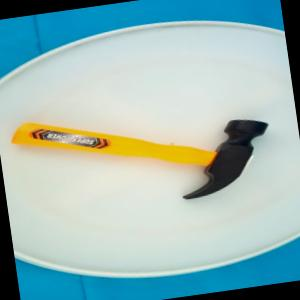martelo: (8, 90, 276, 224)
